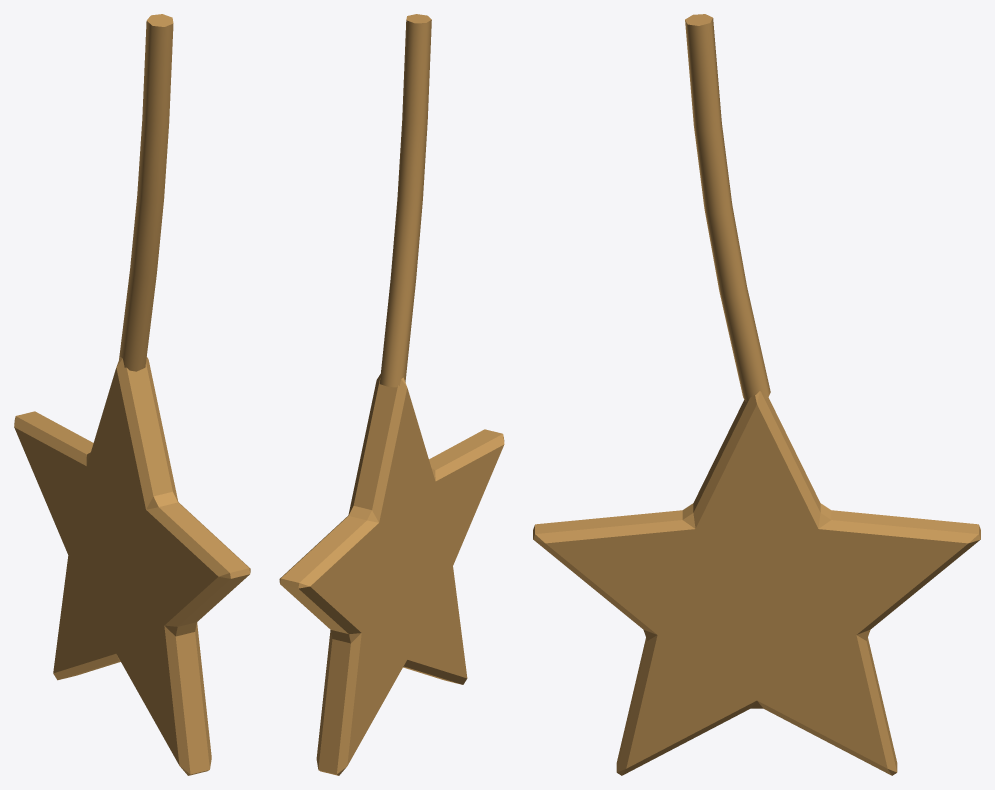
Rendered from SM_Menu_MoonStarCenter.fbx.
3 renders of one model, left to right at view 1: azimuth 30°, elevation 25°; view 2: azimuth 150°, elevation 25°; view 3: azimuth 270°, elevation 25°, orthographic. The views are drawn at different scales.
Visible parts, largest first — view 1: SM_Menu_MoonStarCenter; view 2: SM_Menu_MoonStarCenter; view 3: SM_Menu_MoonStarCenter.
Boxes of the visible parts, x1,y1,x2,y2 form: SM_Menu_MoonStarCenter: (14, 14, 250, 775); SM_Menu_MoonStarCenter: (279, 14, 504, 775); SM_Menu_MoonStarCenter: (533, 14, 980, 775).
Bounding box in the file's own units: 4 × 46.36 × 85.94.
